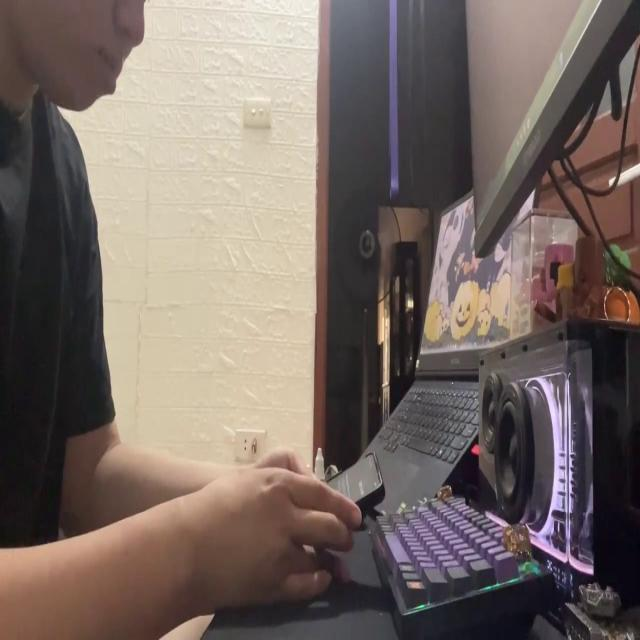laptop: (350, 167, 544, 516), (461, 0, 640, 263)
phone: (323, 443, 387, 512)
student: (0, 0, 361, 640)
